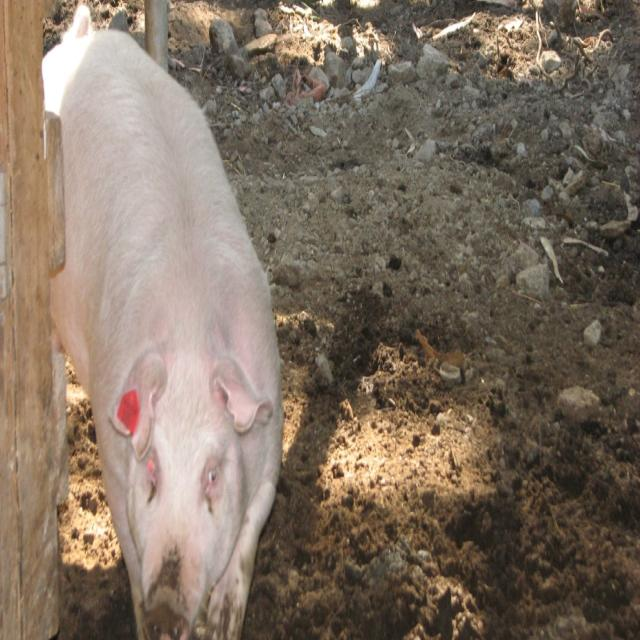pig: (42, 5, 283, 640)
